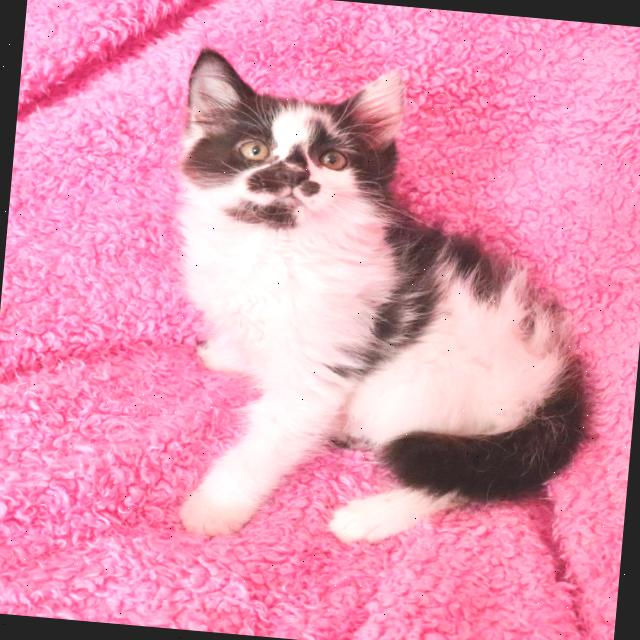maine_coon_cat: (147, 32, 425, 257)
